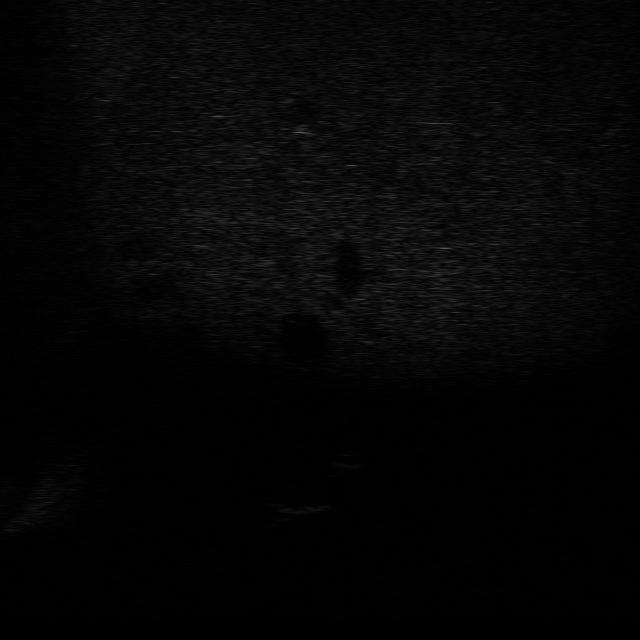ball: (322, 448, 373, 474)
square cage: (261, 491, 334, 518)
